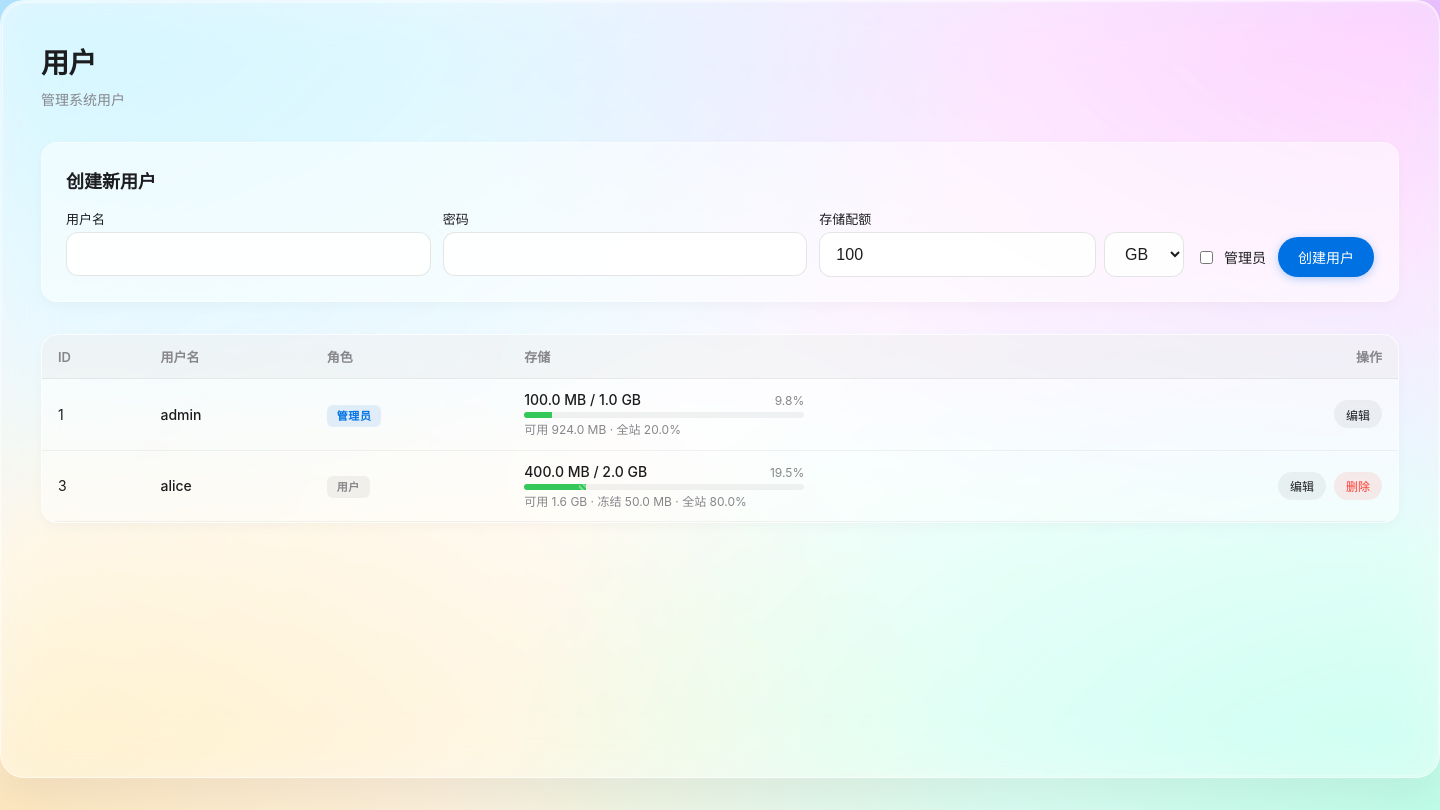
Test: UsersPage › creates a user and resets the form
Expected: the heading "创建新用户" is shown, [66, 171, 156, 192]
Expected: the text "alice" is shown, [144, 450, 311, 522]
Type "new-user" into the field labelled "用户名" at (248, 254), box [66, 232, 431, 276]
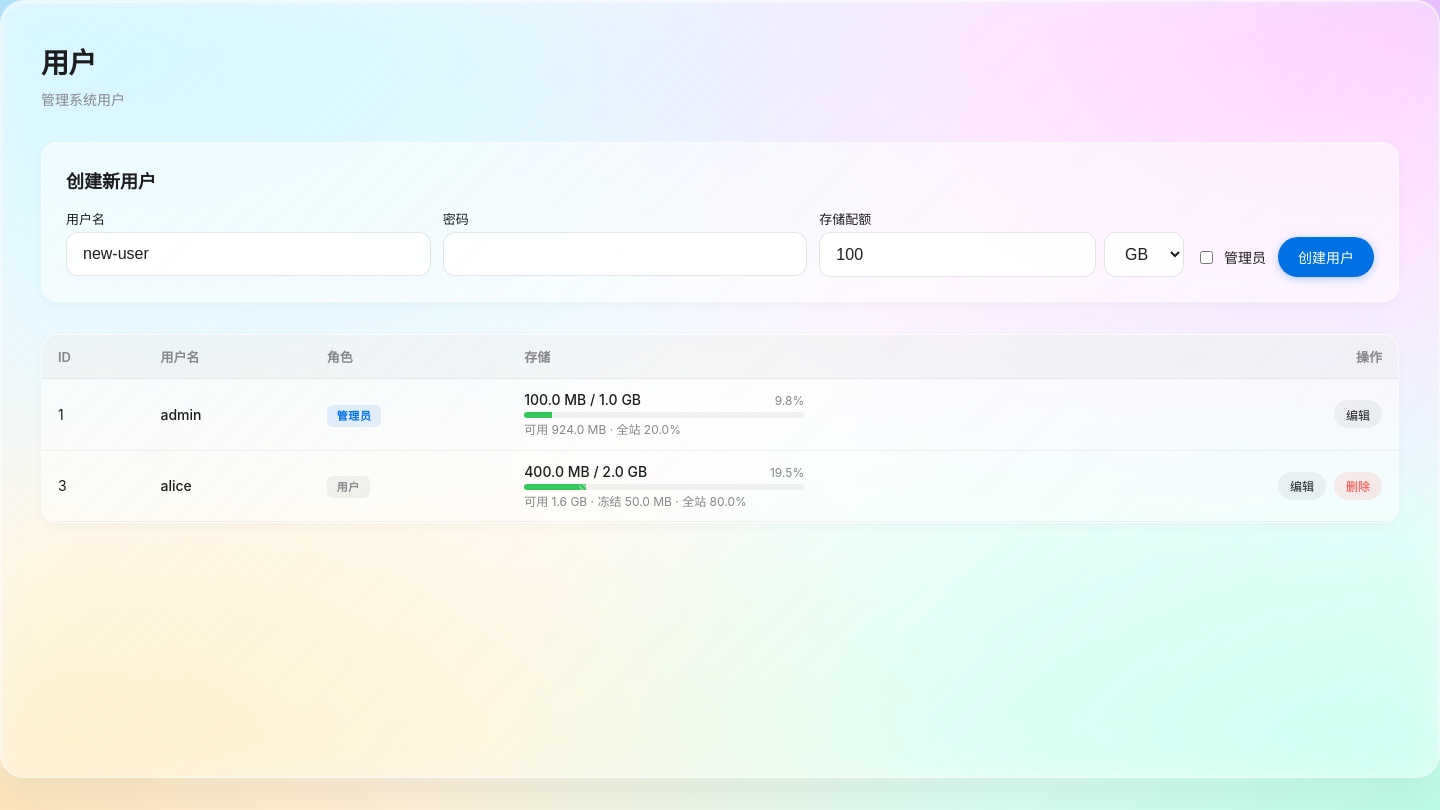
Type "pass123456" into the password field labelled "密码" at (625, 254), box [443, 232, 807, 276]
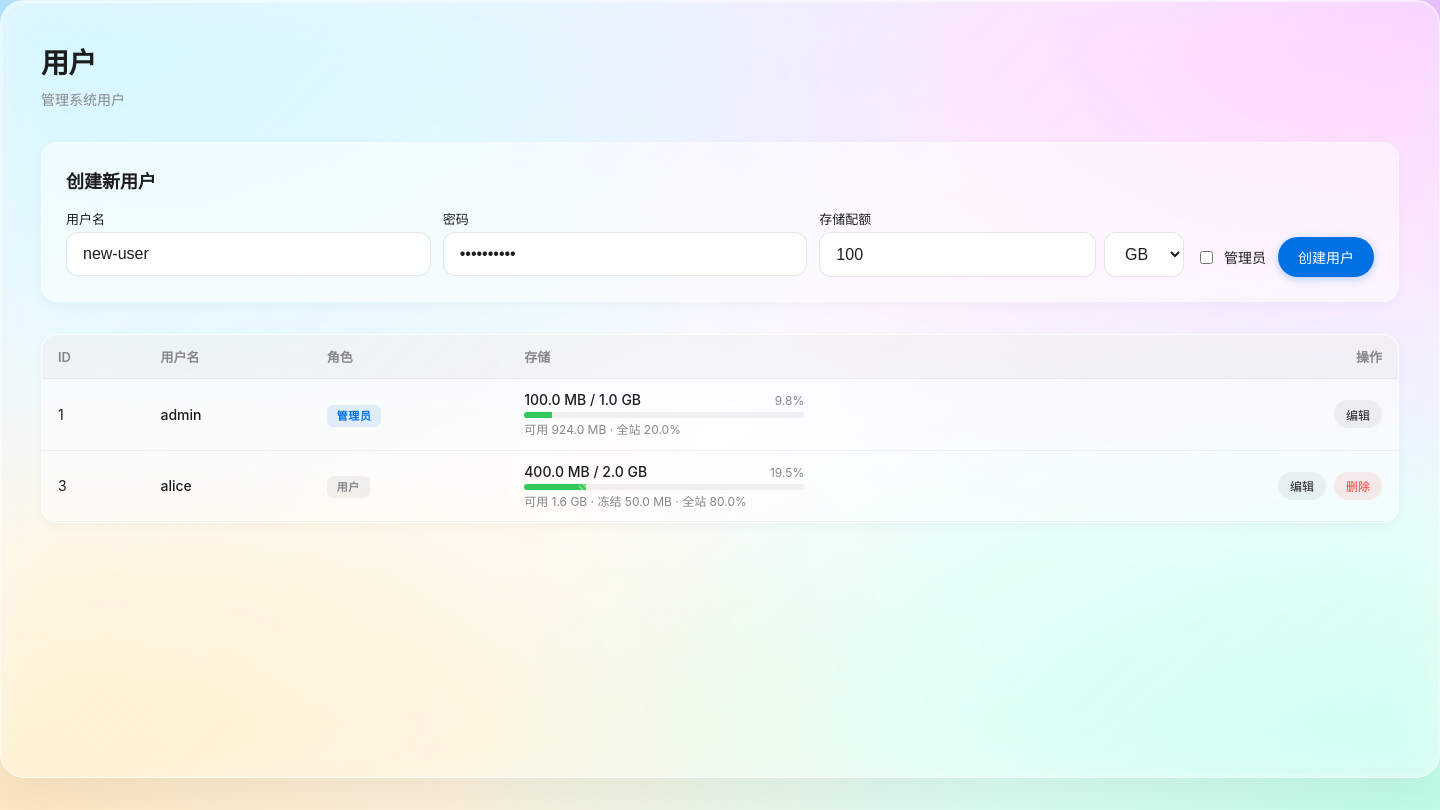
Click the checkbox labelled "管理员" at (1206, 257), box [1200, 250, 1213, 264]
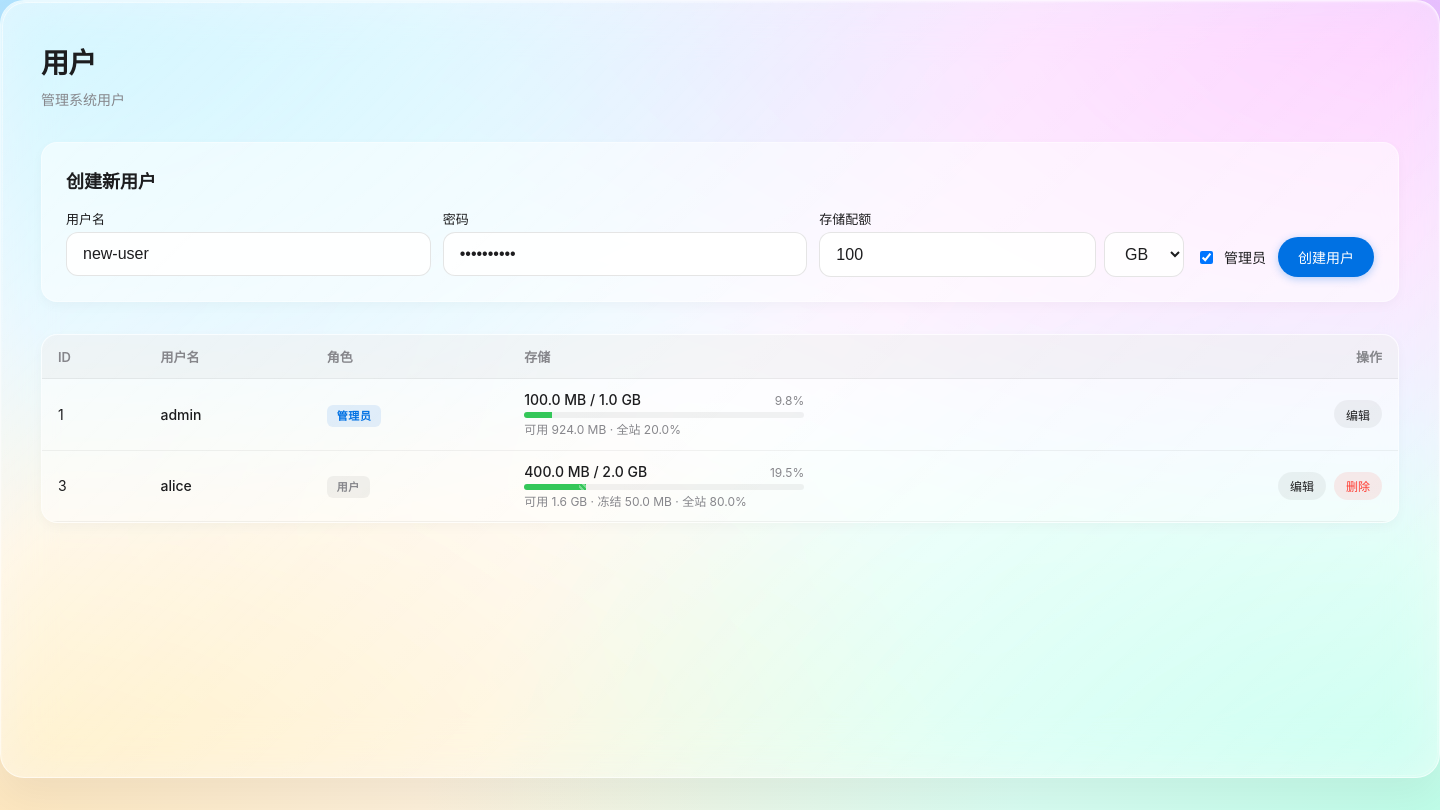
Replace the text in the number field labelled "存储配额" with "2" at (958, 254), box [819, 232, 1096, 277]
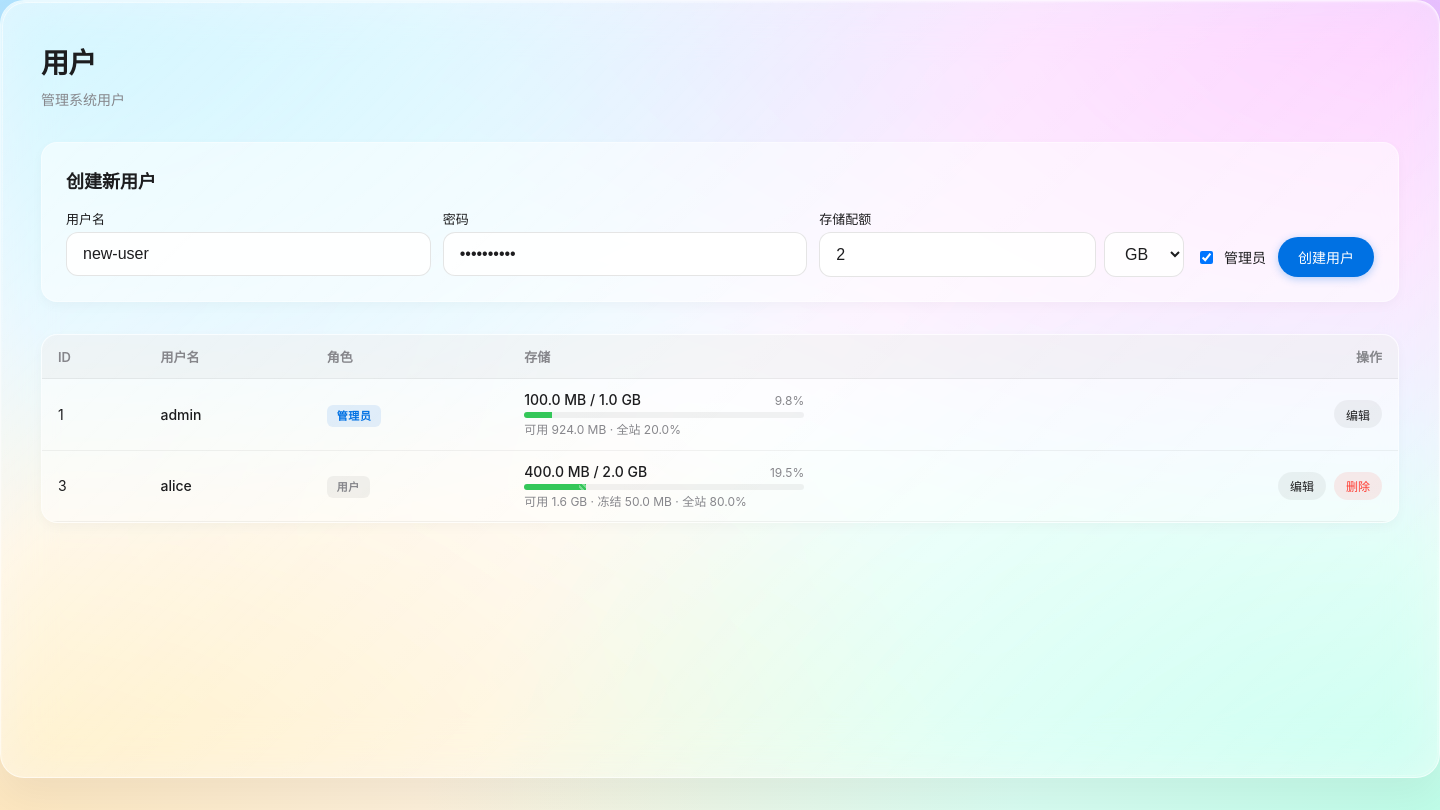
Select "MB" in the dropdown named "配额单位" at (1144, 254), box [1104, 232, 1184, 277]
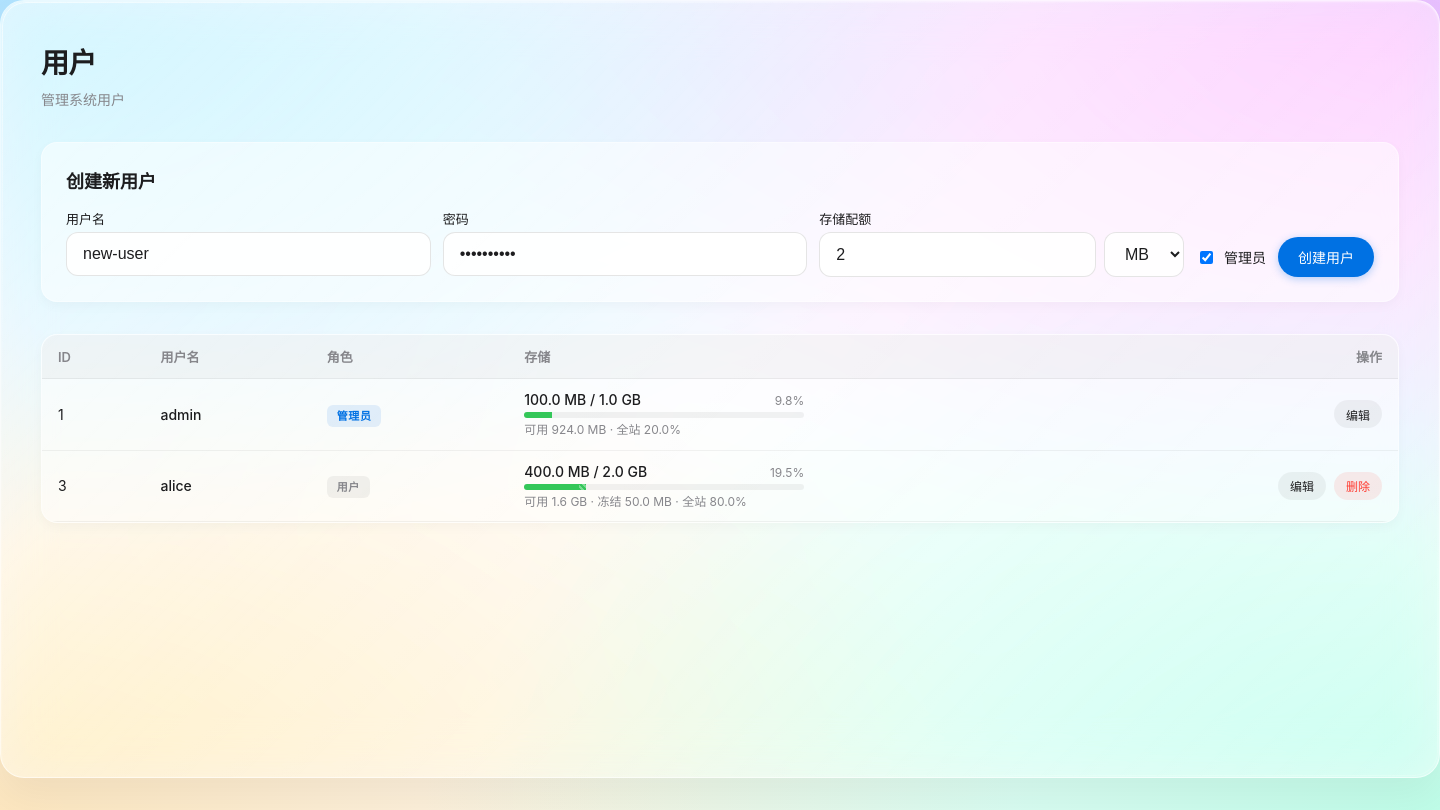
Submit the form with class "create-user-form", box [66, 209, 1374, 277]
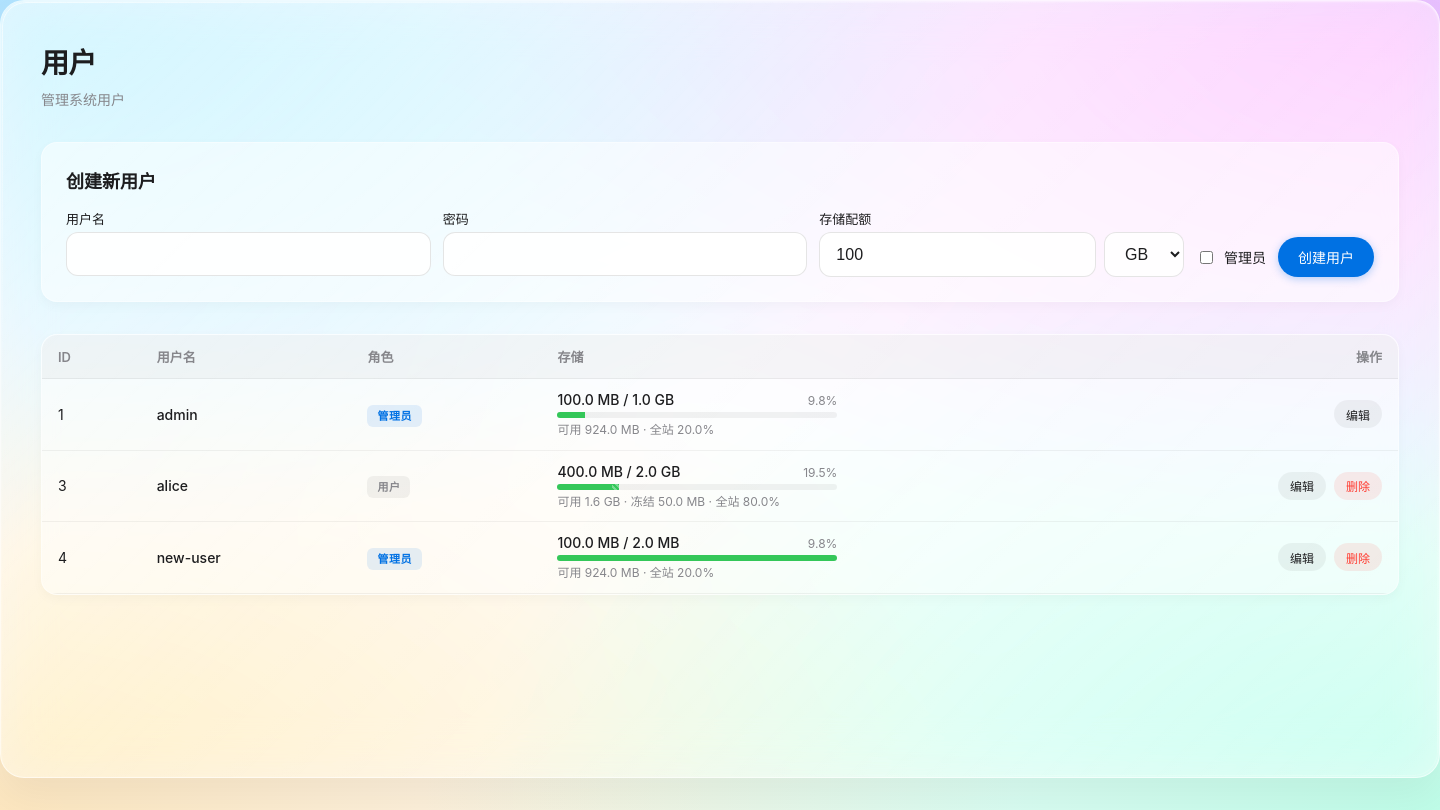
Expected: the field labelled "用户名" is empty, [66, 232, 431, 276]
Expected: the password field labelled "密码" is empty, [443, 232, 807, 276]
Expected: the number field labelled "存储配额" holds "100", [819, 232, 1096, 277]
